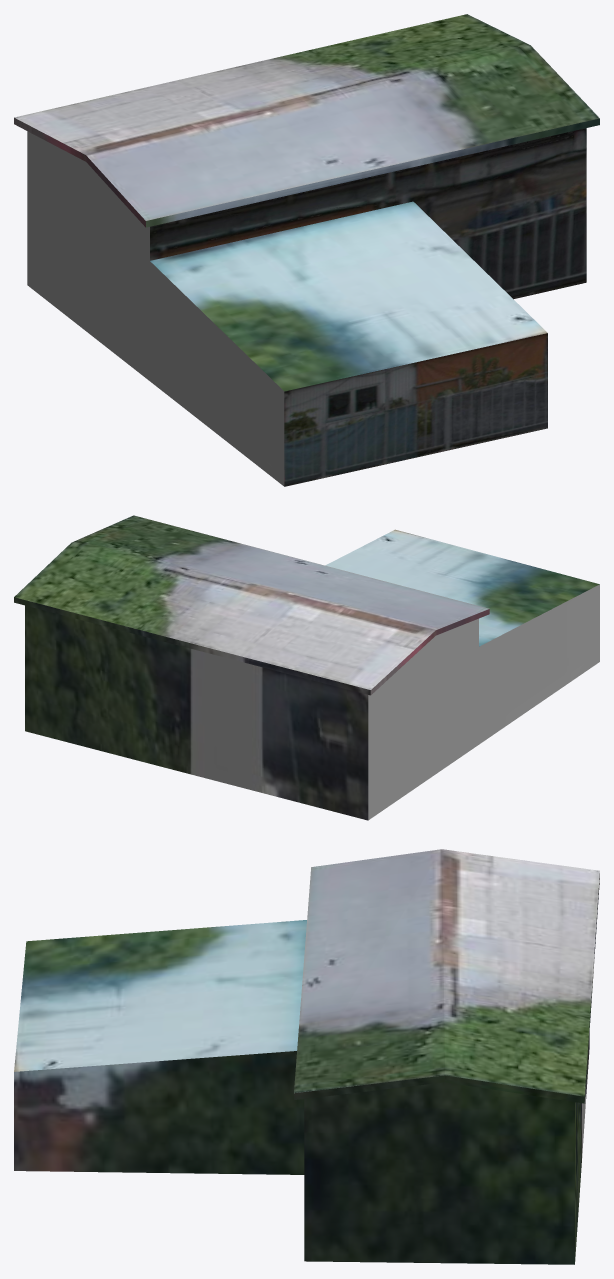
3 renders of one model, top to bottom at view 1: azimuth 30°, elevation 25°; view 2: azimuth 150°, elevation 25°; view 3: azimuth 270°, elevation 25°, orthographic. The views are drawn at different scales.
Parts seen in each view (by area): view 1: B285334045801062A0; view 2: B285334045801062A0; view 3: B285334045801062A0.
Boxes of the visible parts, box(x1,y1,x2,y2) form: B285334045801062A0: box(14, 14, 599, 486); B285334045801062A0: box(14, 515, 599, 820); B285334045801062A0: box(14, 849, 599, 1264).
Size of the model in its own units: 10.68 by 4.16 by 11.52.
Materials: 1 (1 with a texture image).
